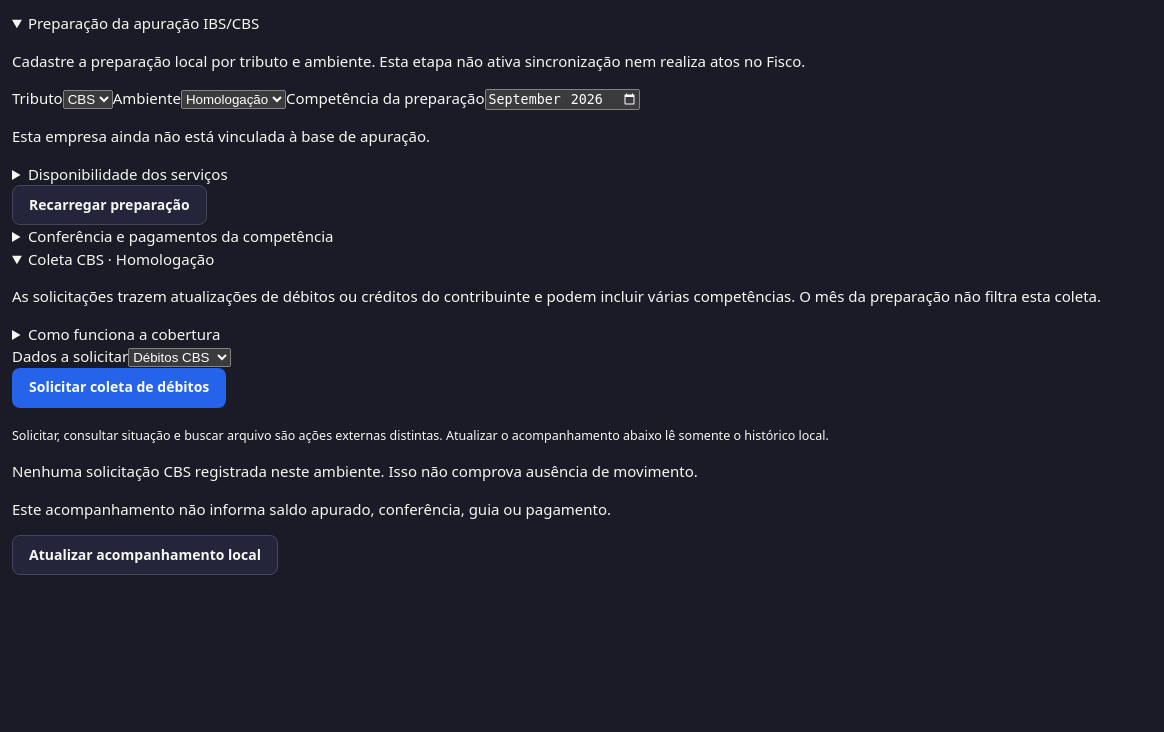
Test: integração na preparação aparece apenas CBS e troca de competência não filtra a coleta
The image size is (1164, 732).
Expected: the text "Nenhuma solicitação CBS registrada" is shown, [12,461,698,481]
Replace the text in the field labelled "Competência da preparação" with "2027-02": (562, 99) [484,89,640,110]
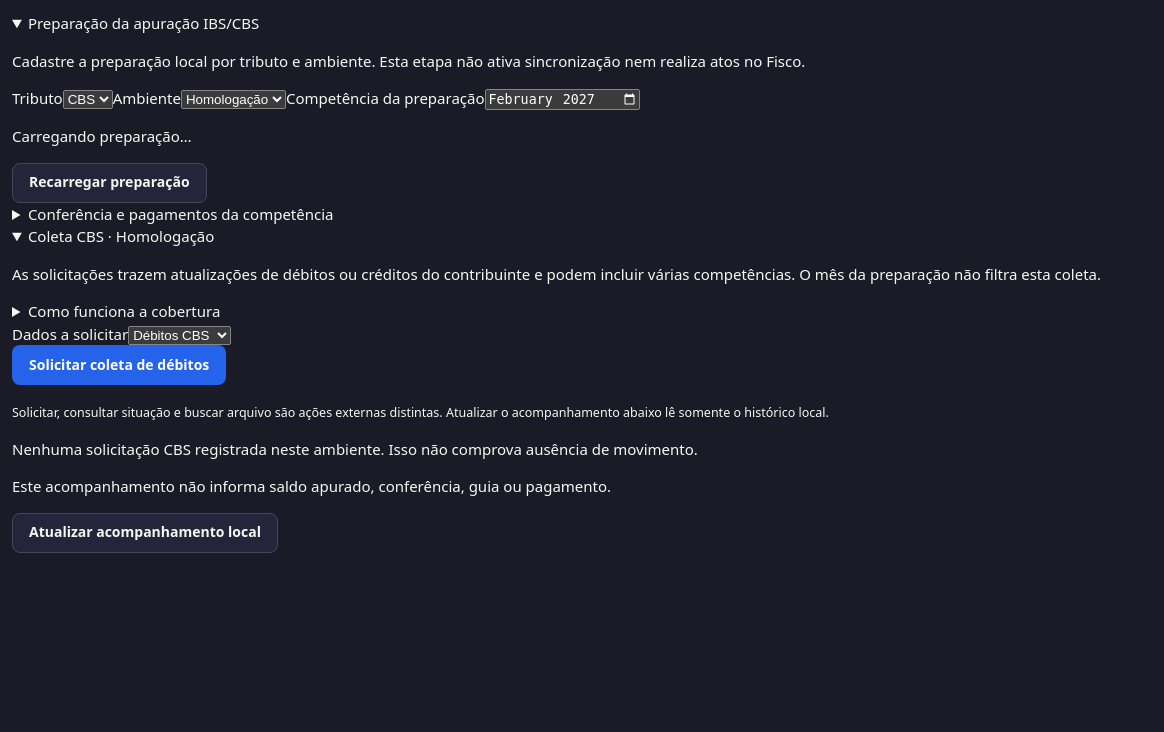
Select "IBS" in the dropdown labelled "Tributo": (88, 100) [63,90,113,109]
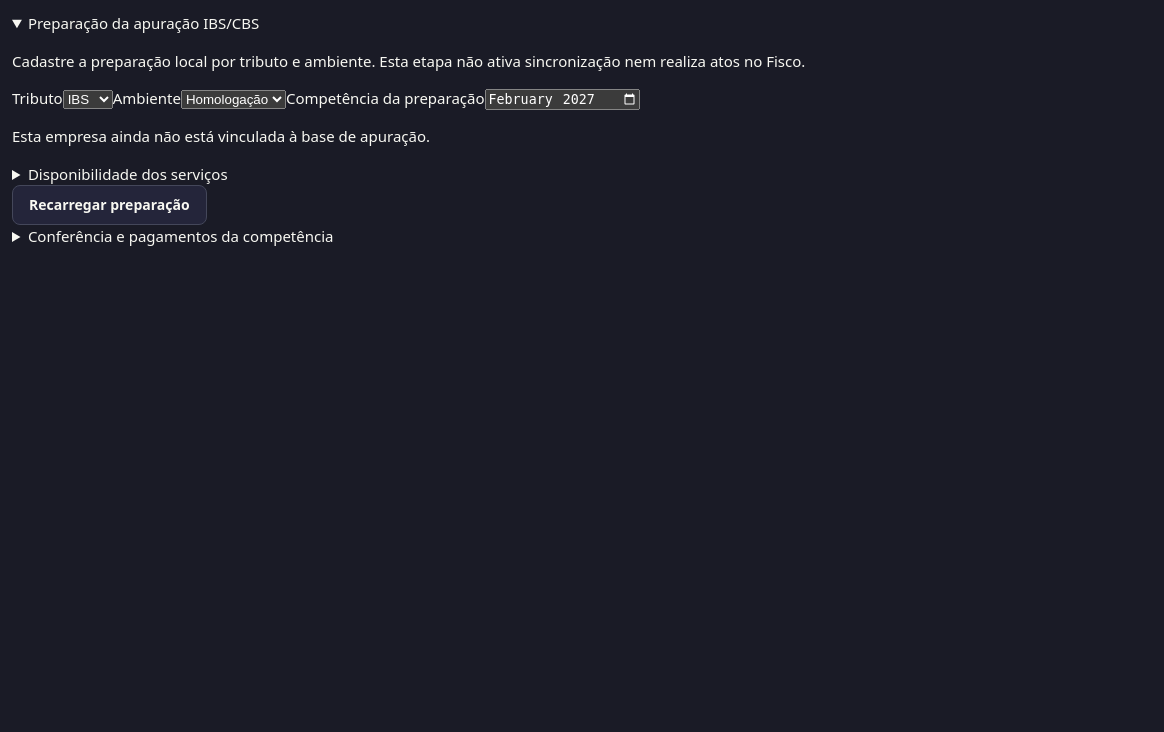
Now the heading "Coleta CBS · Homologação" is gone
